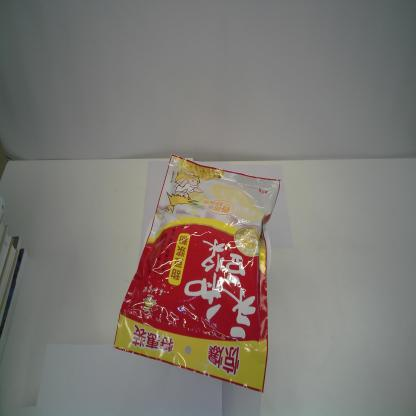Instant Drink: (112, 152, 283, 394)
